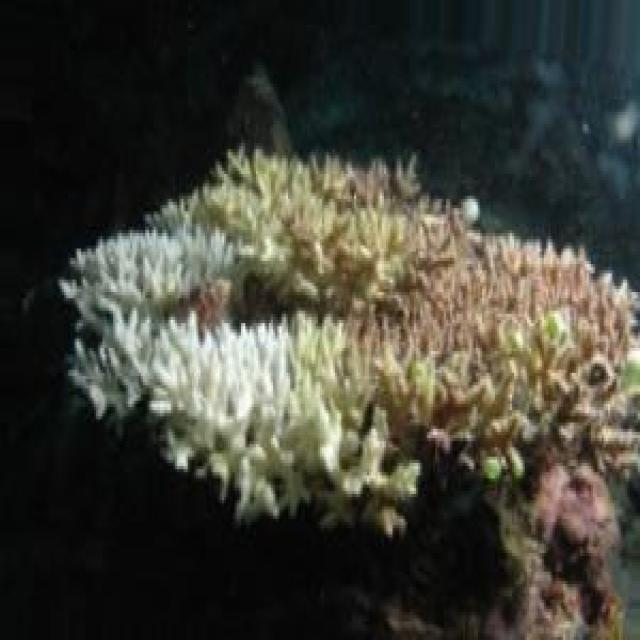bleached coral: (62, 229, 300, 518)
healthy coral: (402, 195, 625, 442)
